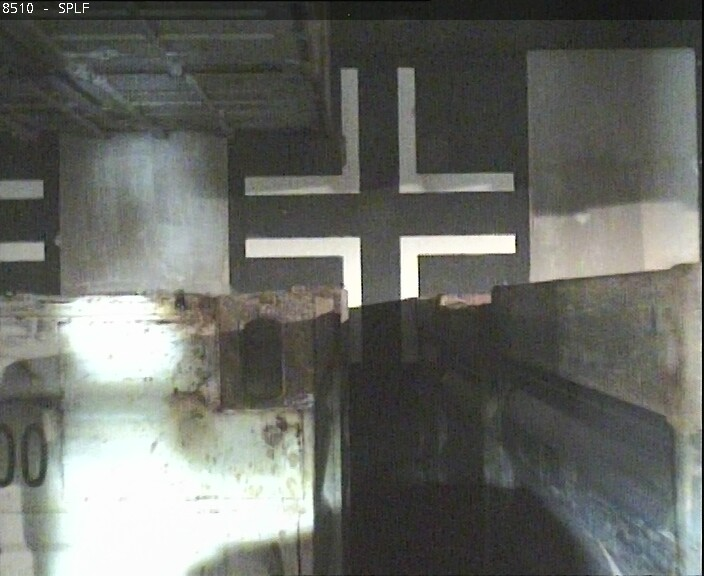groundmarker_1: (243, 65, 513, 200), (243, 232, 513, 367)
